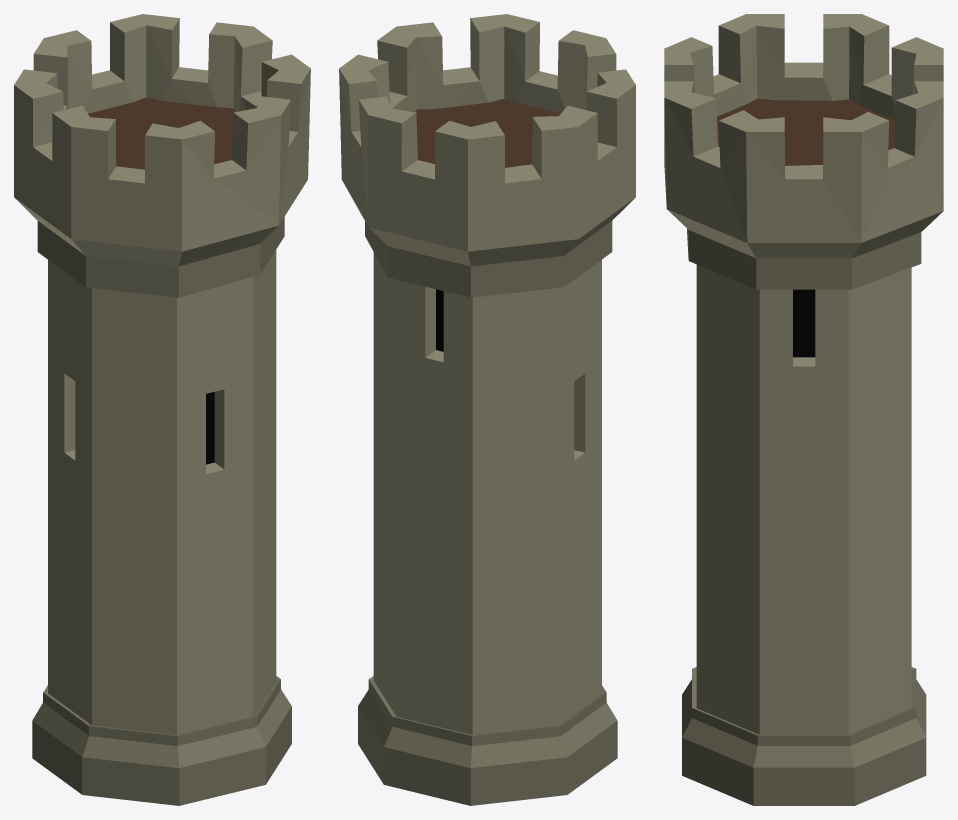
Rendered from tower.dae.
3 renders of one model, left to right at view 1: azimuth 30°, elevation 25°; view 2: azimuth 150°, elevation 25°; view 3: azimuth 270°, elevation 25°, orthographic.
Parts seen in each view (by area): view 1: tower1; view 2: tower1; view 3: tower1.
Boxes of the visible parts, left/top/right/bottom form: tower1: left=14, top=14, right=310, bottom=805; tower1: left=339, top=14, right=635, bottom=805; tower1: left=664, top=14, right=943, bottom=805.
Bounding box in the file's own units: 6.62 × 6.62 × 17.8.
